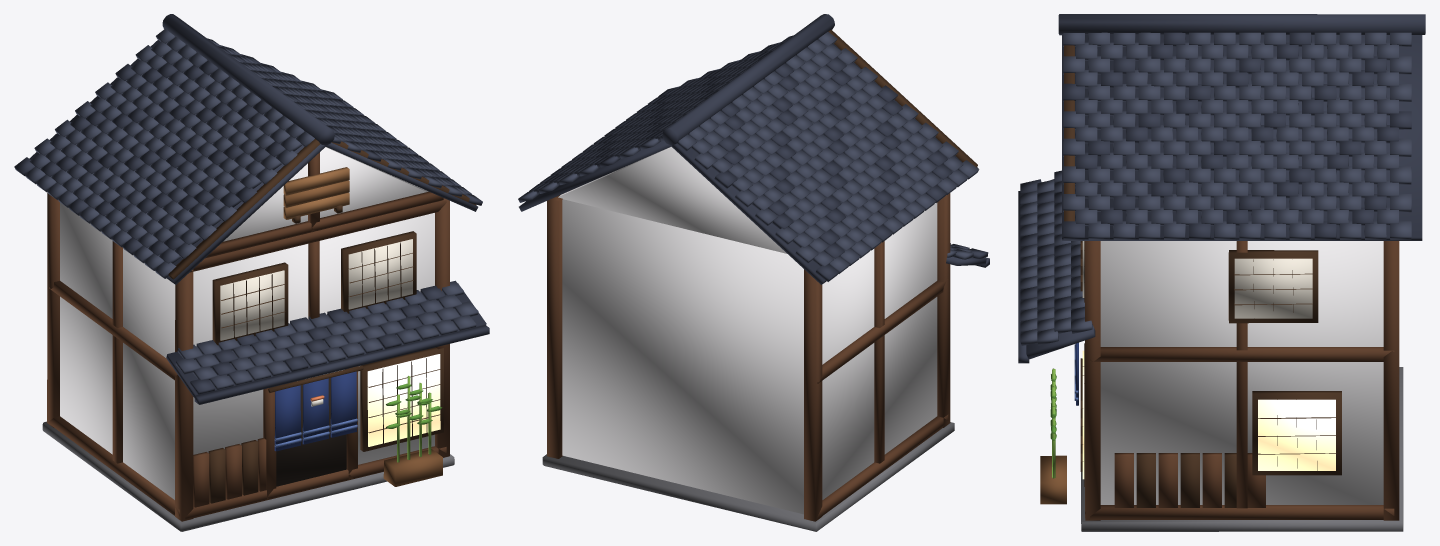
Rendered from sushi.glb.
The picture shows the model from 3 angles, left to right: view 1: azimuth 30°, elevation 25°; view 2: azimuth 150°, elevation 25°; view 3: azimuth 270°, elevation 25°; orthographic projection. The views are drawn at different scales.
Visible parts, largest first — view 1: sushi; view 2: sushi; view 3: sushi.
Part boxes in pixels (<box>): sushi: <box>14,14,489,531</box>; sushi: <box>518,14,989,531</box>; sushi: <box>1018,14,1425,531</box>.
Bounding box in the file's own units: 2.71 × 3.09 × 2.59.
